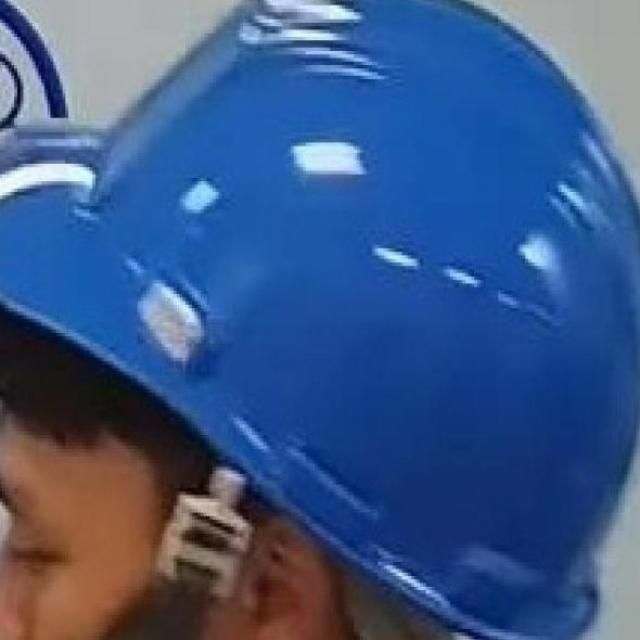blue helmet: (8, 6, 637, 624)
